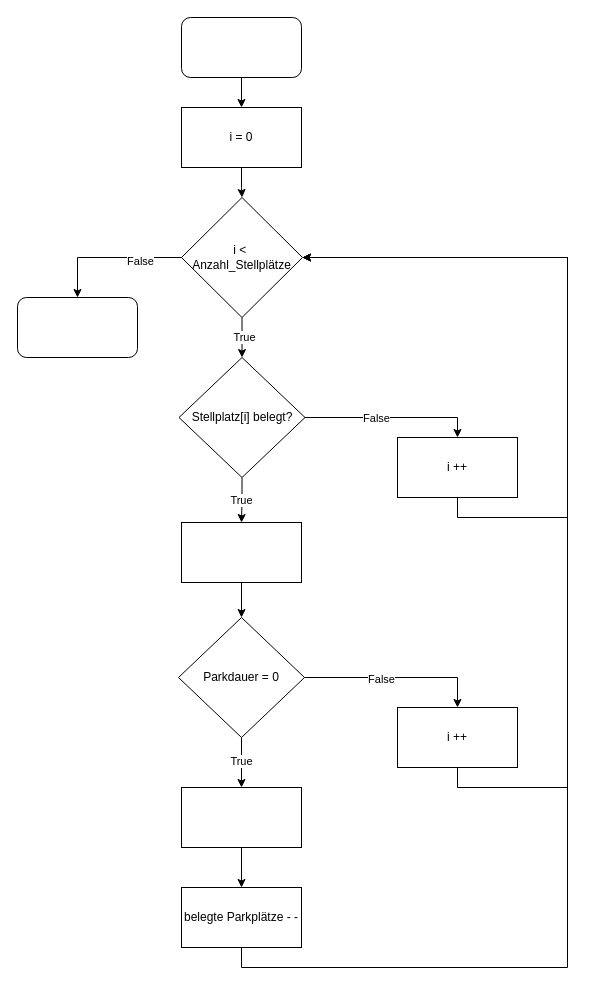
Some shapes in this 593 by 993 pixel diagram are drawn without their labels. The shapes that lost their labels are listed below. From the top down, each one's box as (x1, y1, x2, y2) in pixels, then its label:
(180, 16, 302, 78): Start
(16, 296, 138, 358): Ende
(180, 522, 302, 582): Parkdauer reduzieren
(180, 786, 302, 848): Stellplatz[i] freigeben
